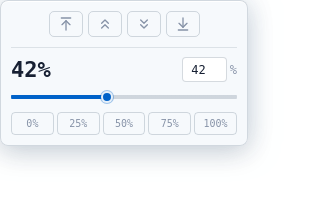
Scenario: ScrollNavigator › resyncs the real state after a failed precise set
expect the text "42%" is shown: met, box x1=11 y1=58 x2=51 y2=80
Click the button "75%" at (170, 124), box x1=148 y1=112 x2=191 y2=135
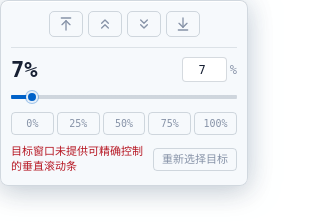
expect the text "目标窗口未提供可精确控制的垂直滚动条" is shown: met, box x1=11 y1=144 x2=147 y2=175
expect the text "7%" is shown: met, box x1=11 y1=58 x2=38 y2=80
